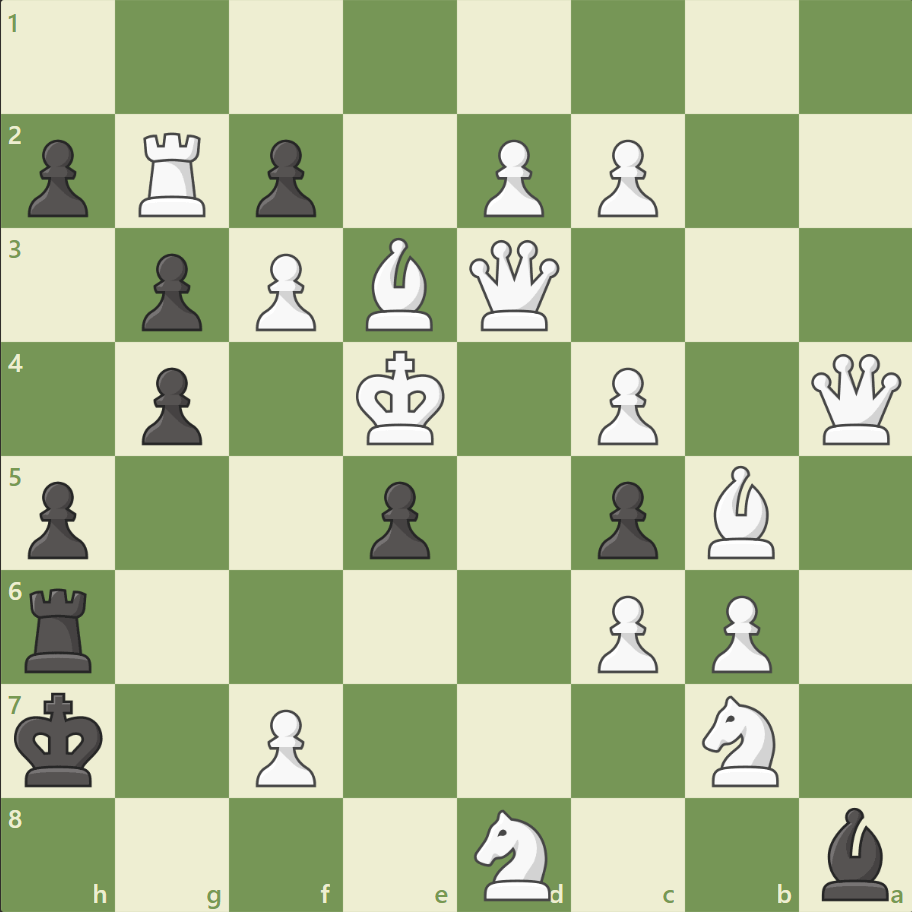B: (698, 460, 782, 563), (358, 233, 442, 336)
K: (351, 344, 451, 452)
N: (692, 688, 789, 791), (465, 802, 562, 904)
P: (247, 700, 322, 791), (701, 586, 776, 677), (247, 246, 322, 337), (474, 132, 549, 223), (588, 586, 662, 677), (588, 359, 662, 450), (588, 132, 662, 223)
Q: (805, 349, 904, 449), (464, 236, 563, 335)
R: (133, 125, 215, 222)
b: (812, 801, 896, 904)
k: (11, 685, 111, 793)
p: (20, 473, 95, 564), (133, 359, 208, 450), (133, 246, 208, 337), (247, 132, 322, 223), (20, 132, 95, 223), (588, 473, 662, 564), (361, 473, 435, 564)
r: (19, 579, 102, 676)
